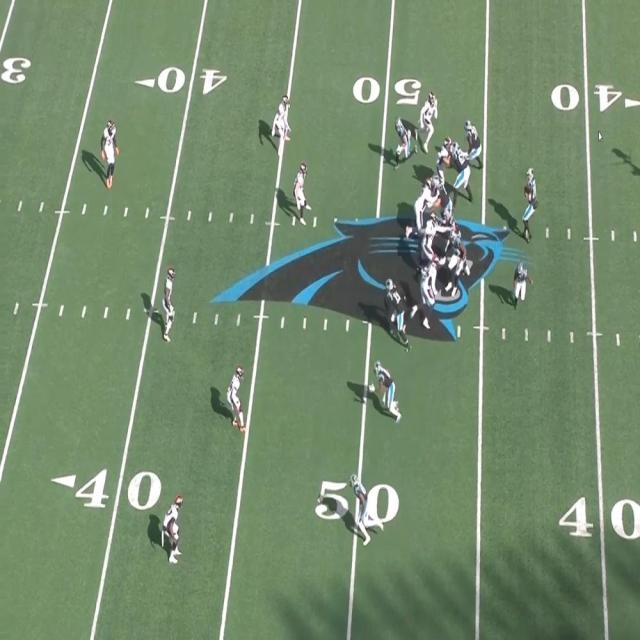db: (162, 496, 182, 563), (230, 365, 247, 427), (162, 267, 176, 340), (104, 119, 119, 182), (276, 95, 290, 156)
lb: (294, 162, 312, 221), (423, 88, 441, 146)
qb: (524, 166, 536, 232)
skill: (351, 473, 373, 543), (376, 360, 402, 416), (388, 278, 408, 338), (396, 117, 415, 167), (516, 260, 528, 303)
